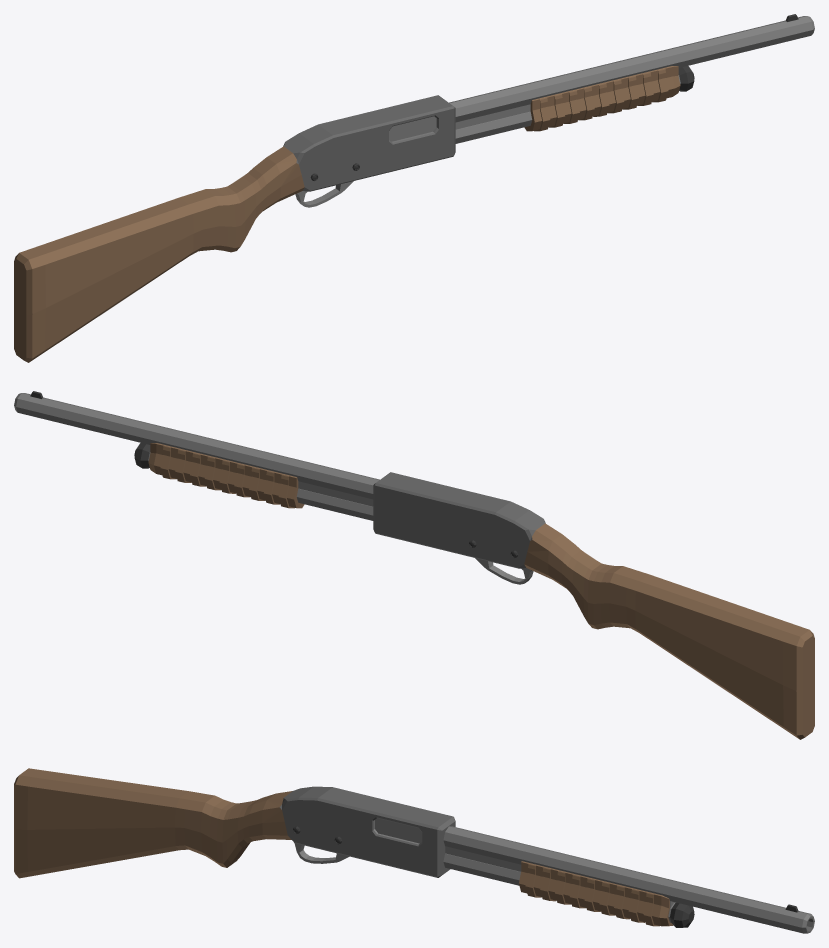
Rendered from shotgun.glb.
3 views of the same model, one above another, from view 1: azimuth 30°, elevation 25°; view 2: azimuth 150°, elevation 25°; view 3: azimuth 330°, elevation 25° (orthographic).
Visible parts, largest first — view 1: shotgun; view 2: shotgun; view 3: shotgun.
Part boxes in pixels (x1,y1,x2,y2): shotgun: (14,14,814,362); shotgun: (14,391,814,739); shotgun: (14,768,814,933).
Bounding box in the file's own units: 9.63 × 1.83 × 0.4167.
Materials: 1 (1 with a texture image).
